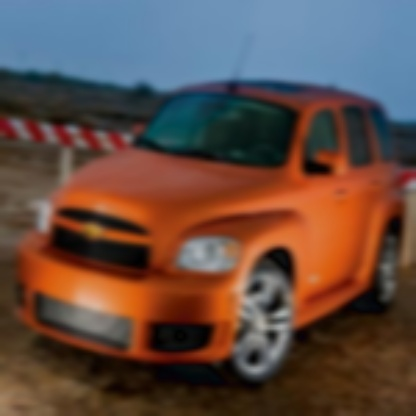Vehicle: (17, 72, 406, 384)
